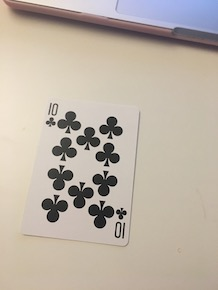TenOfClubs: (16, 93, 141, 250)
